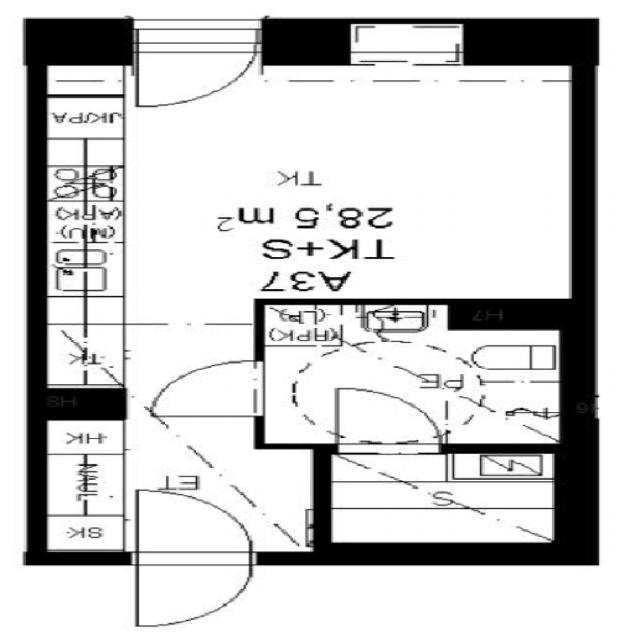door: (135, 18, 261, 133), (137, 490, 250, 566), (137, 552, 250, 626), (337, 388, 439, 454), (150, 360, 264, 416)
